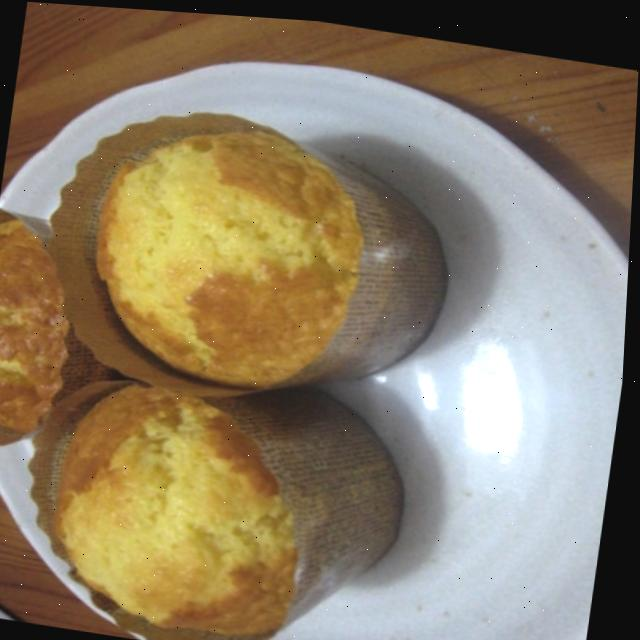炸货点心: (0, 31, 543, 640)
面包点心: (0, 31, 543, 640)
